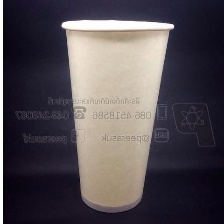paper_cup: (56, 15, 179, 216)
